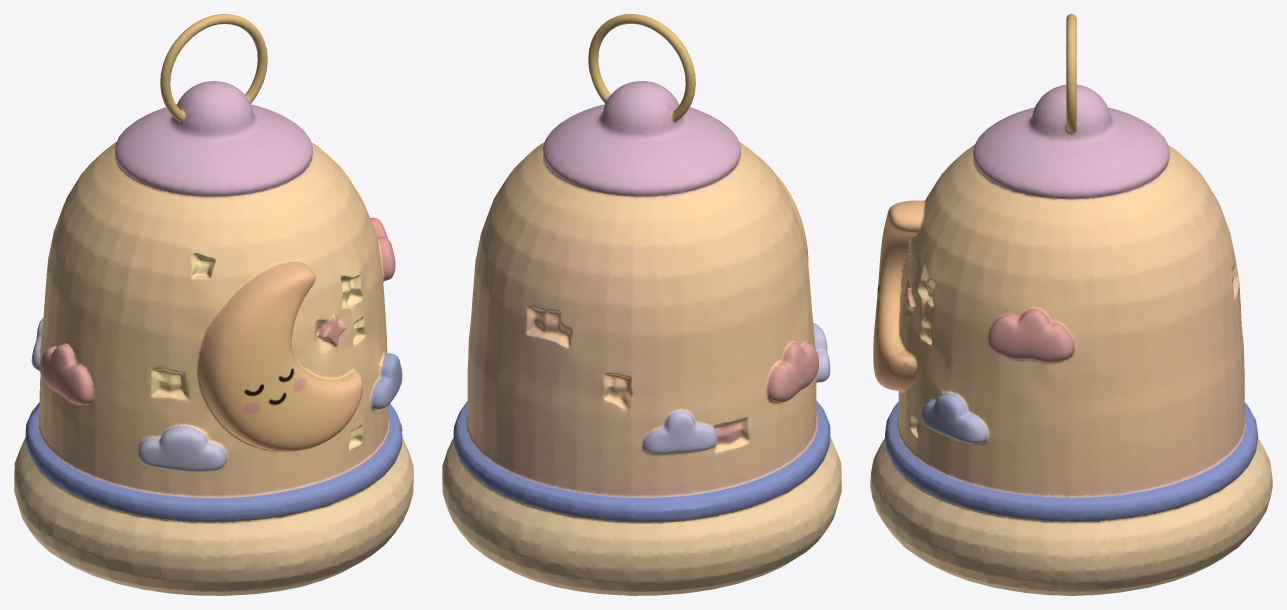
File: Meshy_AI_Dream_Moon_Lantern_1019084302_texture.fbx
3 renders of one model, left to right at view 1: azimuth 30°, elevation 25°; view 2: azimuth 150°, elevation 25°; view 3: azimuth 270°, elevation 25°, orthographic.
Parts seen in each view (by area): view 1: Mesh_0; view 2: Mesh_0; view 3: Mesh_0.
Part boxes in pixels (left/top/right/bottom): Mesh_0: left=14, top=14, right=413, bottom=595; Mesh_0: left=442, top=14, right=841, bottom=595; Mesh_0: left=870, top=14, right=1272, bottom=595.
Bounding box in the file's own units: 135 × 190 × 135.
Materials: 1 (1 with a texture image).
